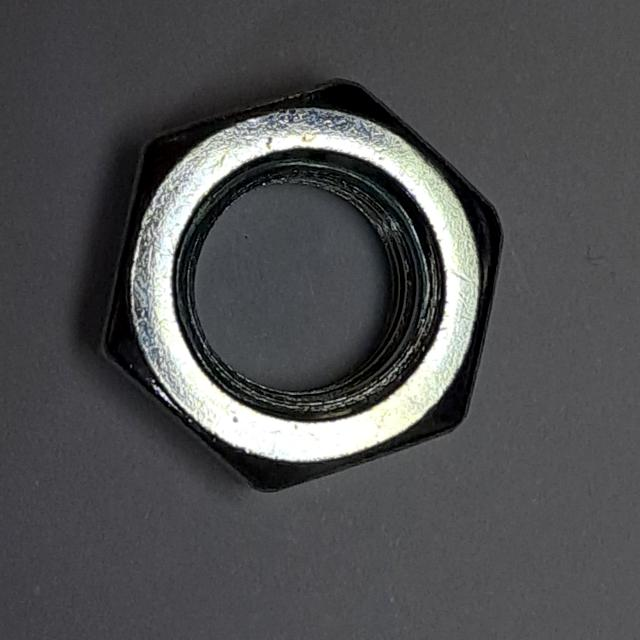Excellent: (79, 66, 516, 505)
